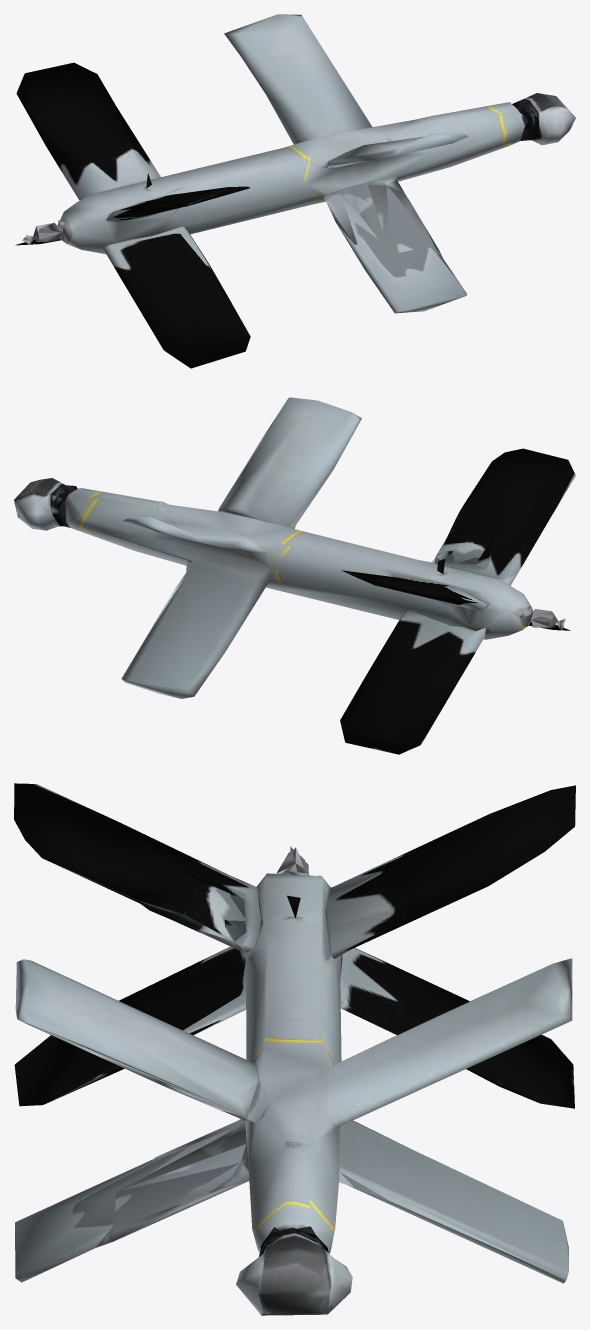
Rendered from lancet_lo.glb.
The picture shows the model from 3 angles, top to bottom: view 1: azimuth 30°, elevation 25°; view 2: azimuth 150°, elevation 25°; view 3: azimuth 270°, elevation 25°; orthographic projection. The views are drawn at different scales.
Parts seen in each view (by area): view 1: g_lancet_hull, g_lancet_rotor; view 2: g_lancet_hull, g_lancet_rotor; view 3: g_lancet_hull.
Boxes of the visible parts, box(x1,y1,x2,y2) form: g_lancet_hull: box(15, 14, 575, 368); g_lancet_rotor: box(22, 222, 61, 244); g_lancet_hull: box(14, 397, 575, 754); g_lancet_rotor: box(530, 609, 565, 630); g_lancet_hull: box(14, 783, 575, 1315).
Bounding box in the file's own units: 1.63 × 0.5069 × 0.8862.
2 materials, 2 textured.
